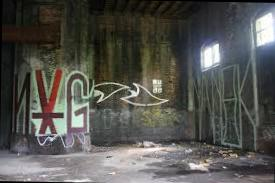graffiti: (13, 72, 88, 136), (198, 68, 256, 148), (93, 78, 168, 110)
